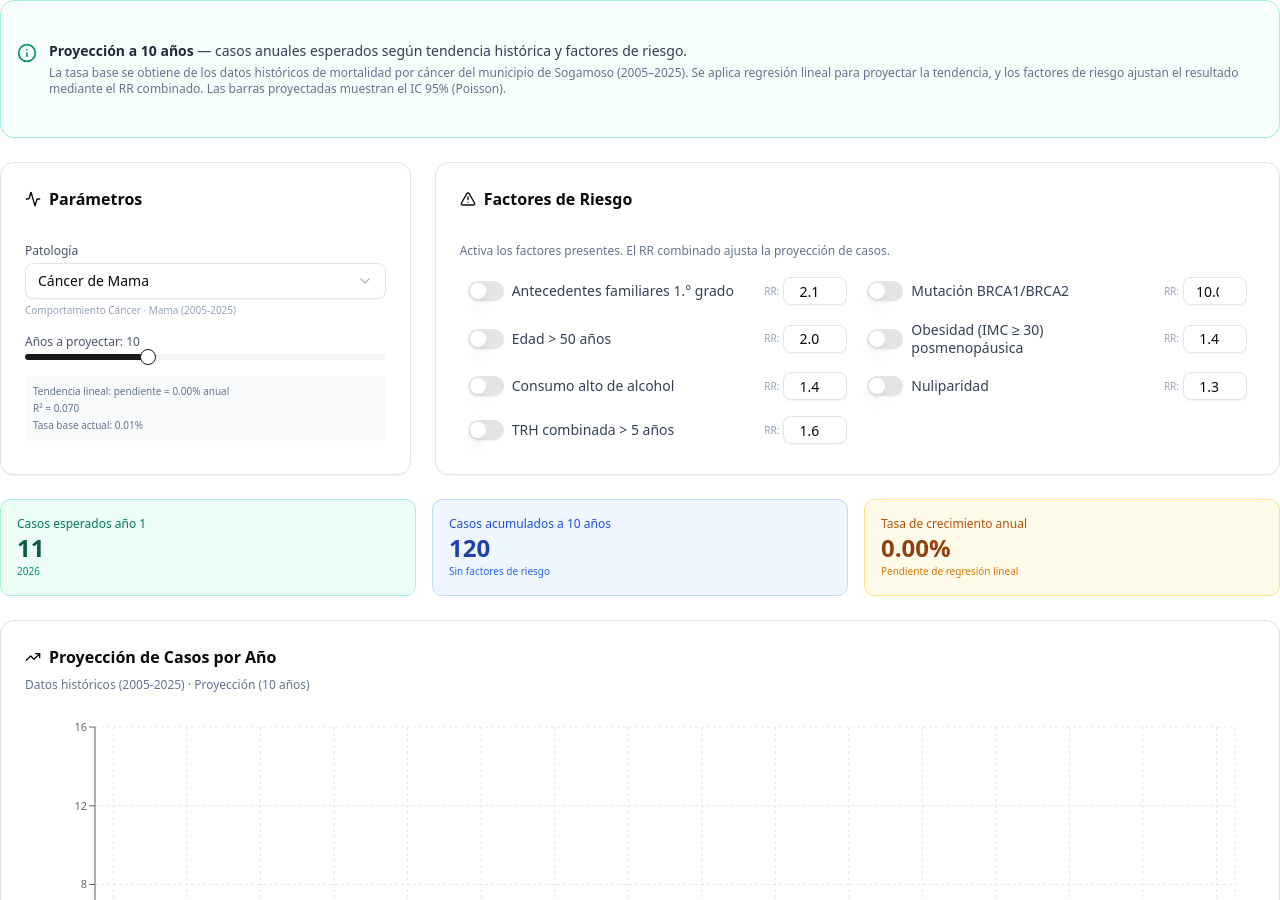
Test case: PoissonPanel — factores de riesgo › dos factores activos muestran la multiplicación combinada
Click the switch named "Antecedentes familiares 1.° grado" next to "Antecedentes familiares 1.° grado": click(486, 291) [468,281,504,301]
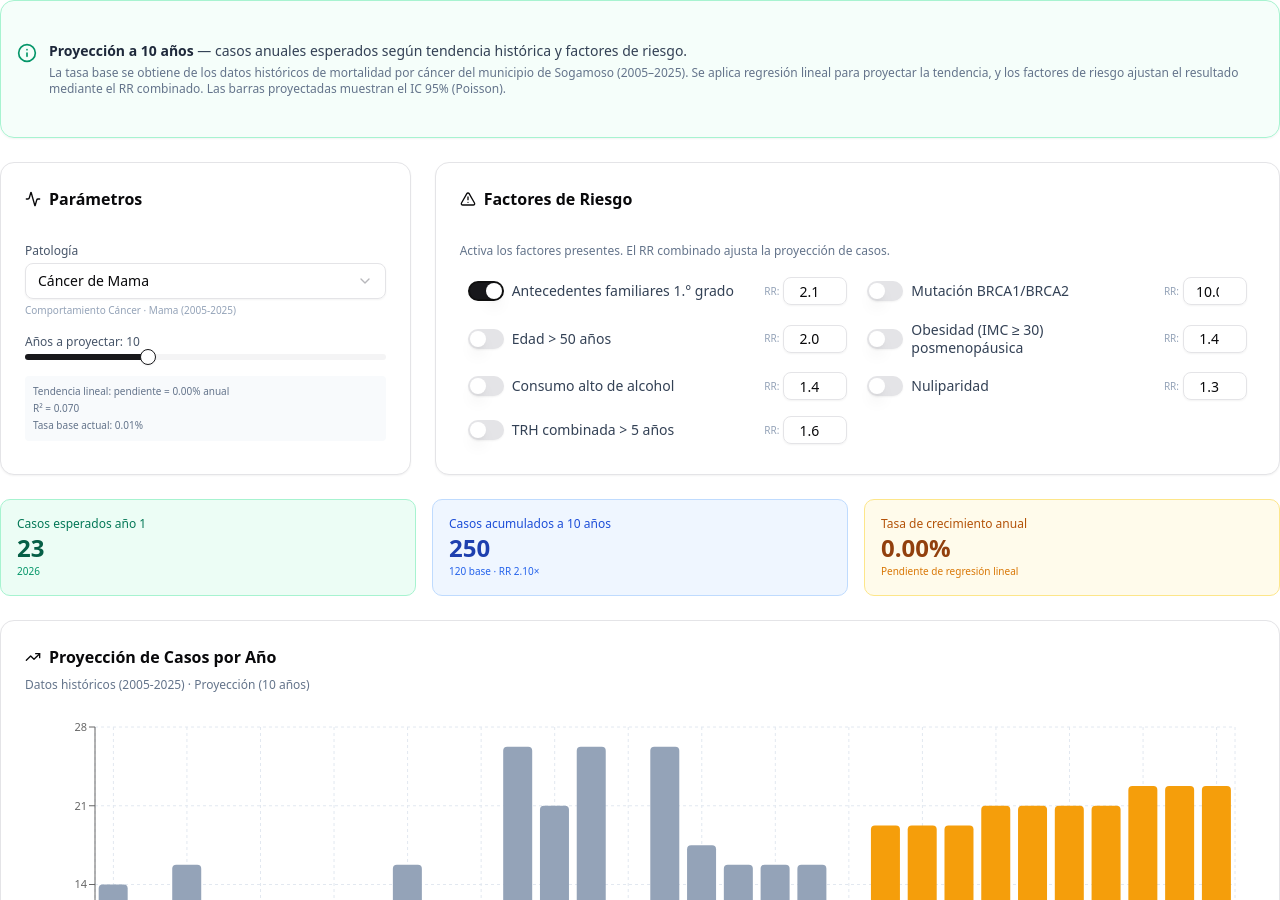
Click the switch named "Mutación BRCA1/BRCA2" next to "Mutación BRCA1/BRCA2": click(885, 291) [867,281,903,301]
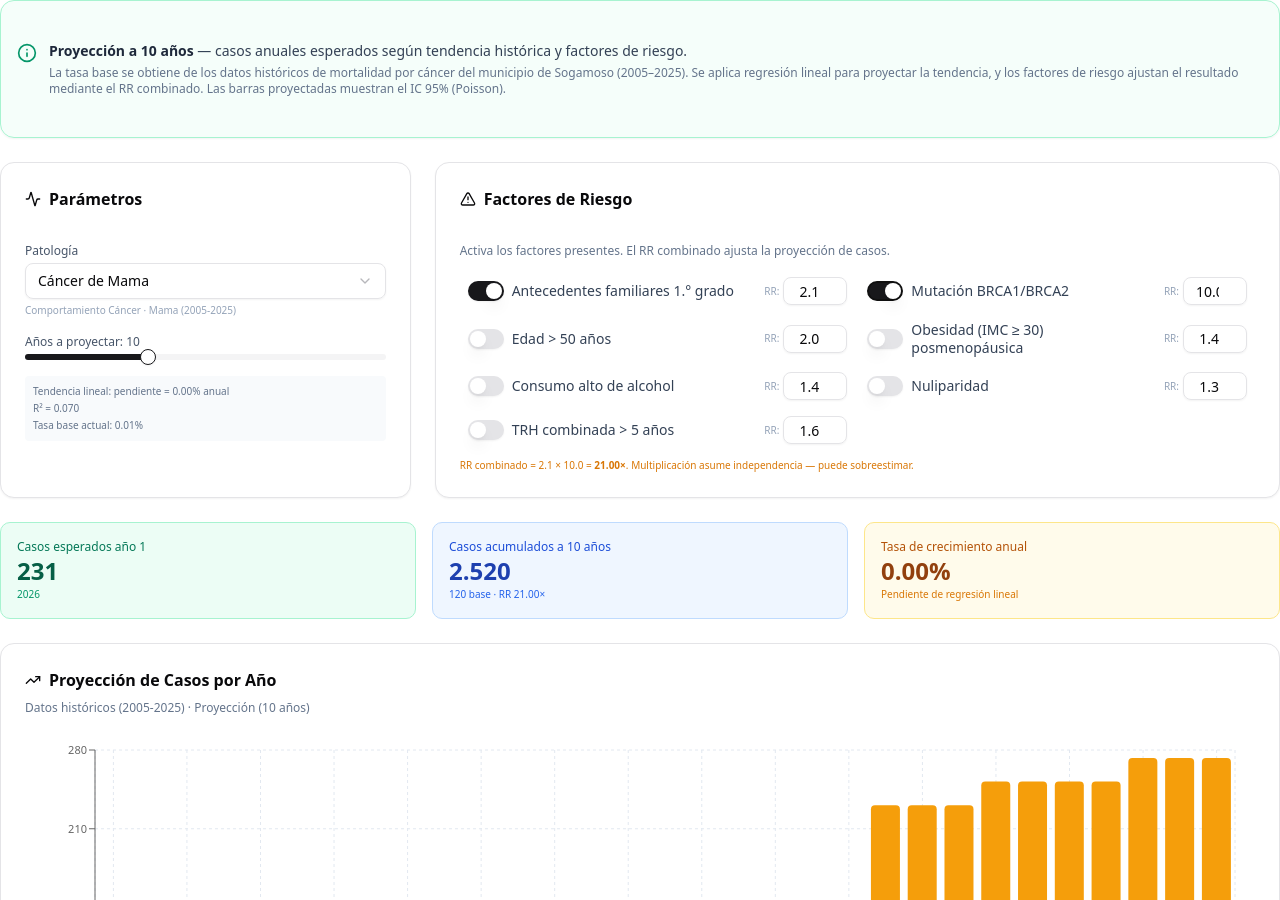
Now the text "RR combinado = " shows "RR combinado = 2.1 × 10.0 = 21.00×.", box [460,458,914,472]
Now the text "RR combinado = " shows "Multiplicación asume independencia — puede sobreestimar.", box [631,458,914,472]
